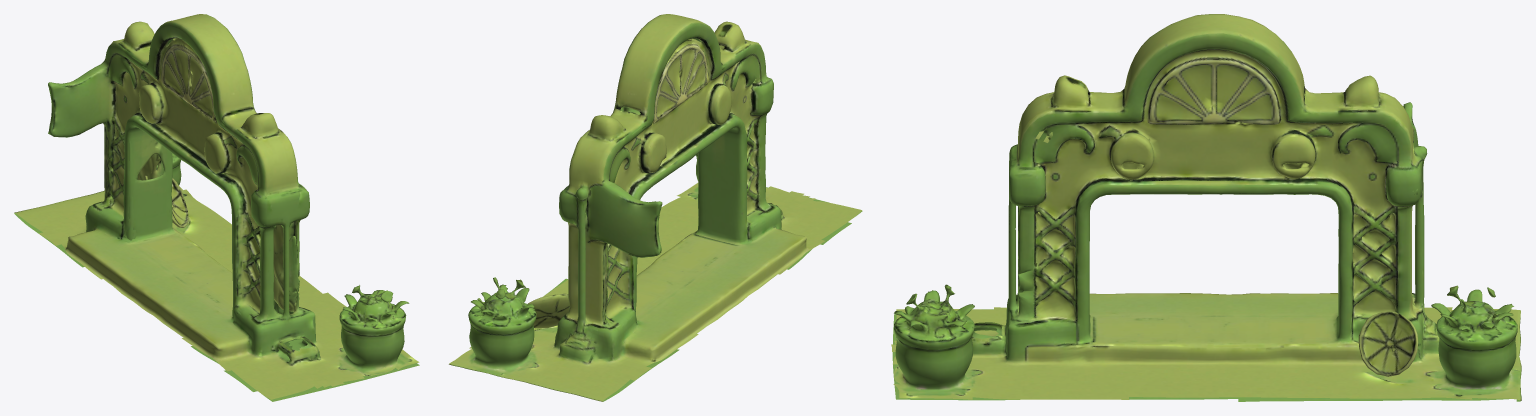
The model's file is tripo_convert_ad5006a8-36b9-4bee-b8c3-04170dc0b135.fbx.
3 renders of one model, left to right at view 1: azimuth 30°, elevation 25°; view 2: azimuth 150°, elevation 25°; view 3: azimuth 270°, elevation 25°, orthographic. The views are drawn at different scales.
Visible parts, largest first — view 1: tripo_node_ad5006a8; view 2: tripo_node_ad5006a8; view 3: tripo_node_ad5006a8.
Part boxes in pixels (box(x1,y1,x2,y2)): tripo_node_ad5006a8: box(14, 14, 419, 401); tripo_node_ad5006a8: box(449, 14, 862, 401); tripo_node_ad5006a8: box(891, 14, 1521, 401).
Size of the model in its own units: 314 by 489 by 859.
Materials: 1 (1 with a texture image).
